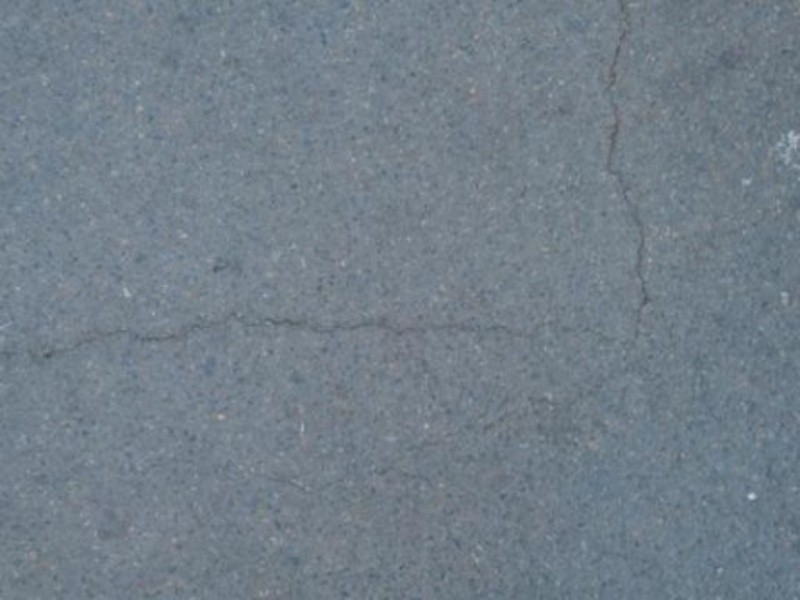crack: (5, 315, 535, 379), (596, 4, 684, 356)
